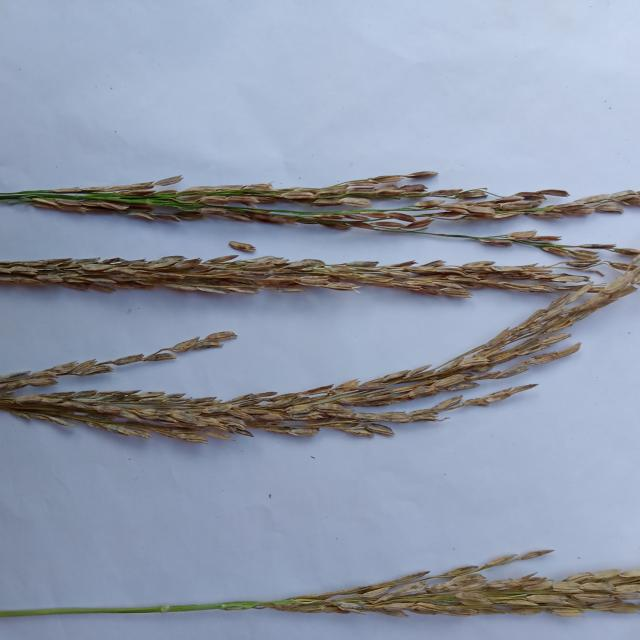Neck_Blast: (0, 281, 640, 437), (15, 176, 622, 225), (1, 255, 549, 292), (281, 573, 635, 615)
